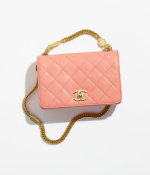channel: (28, 50, 123, 107), (71, 88, 90, 104)
